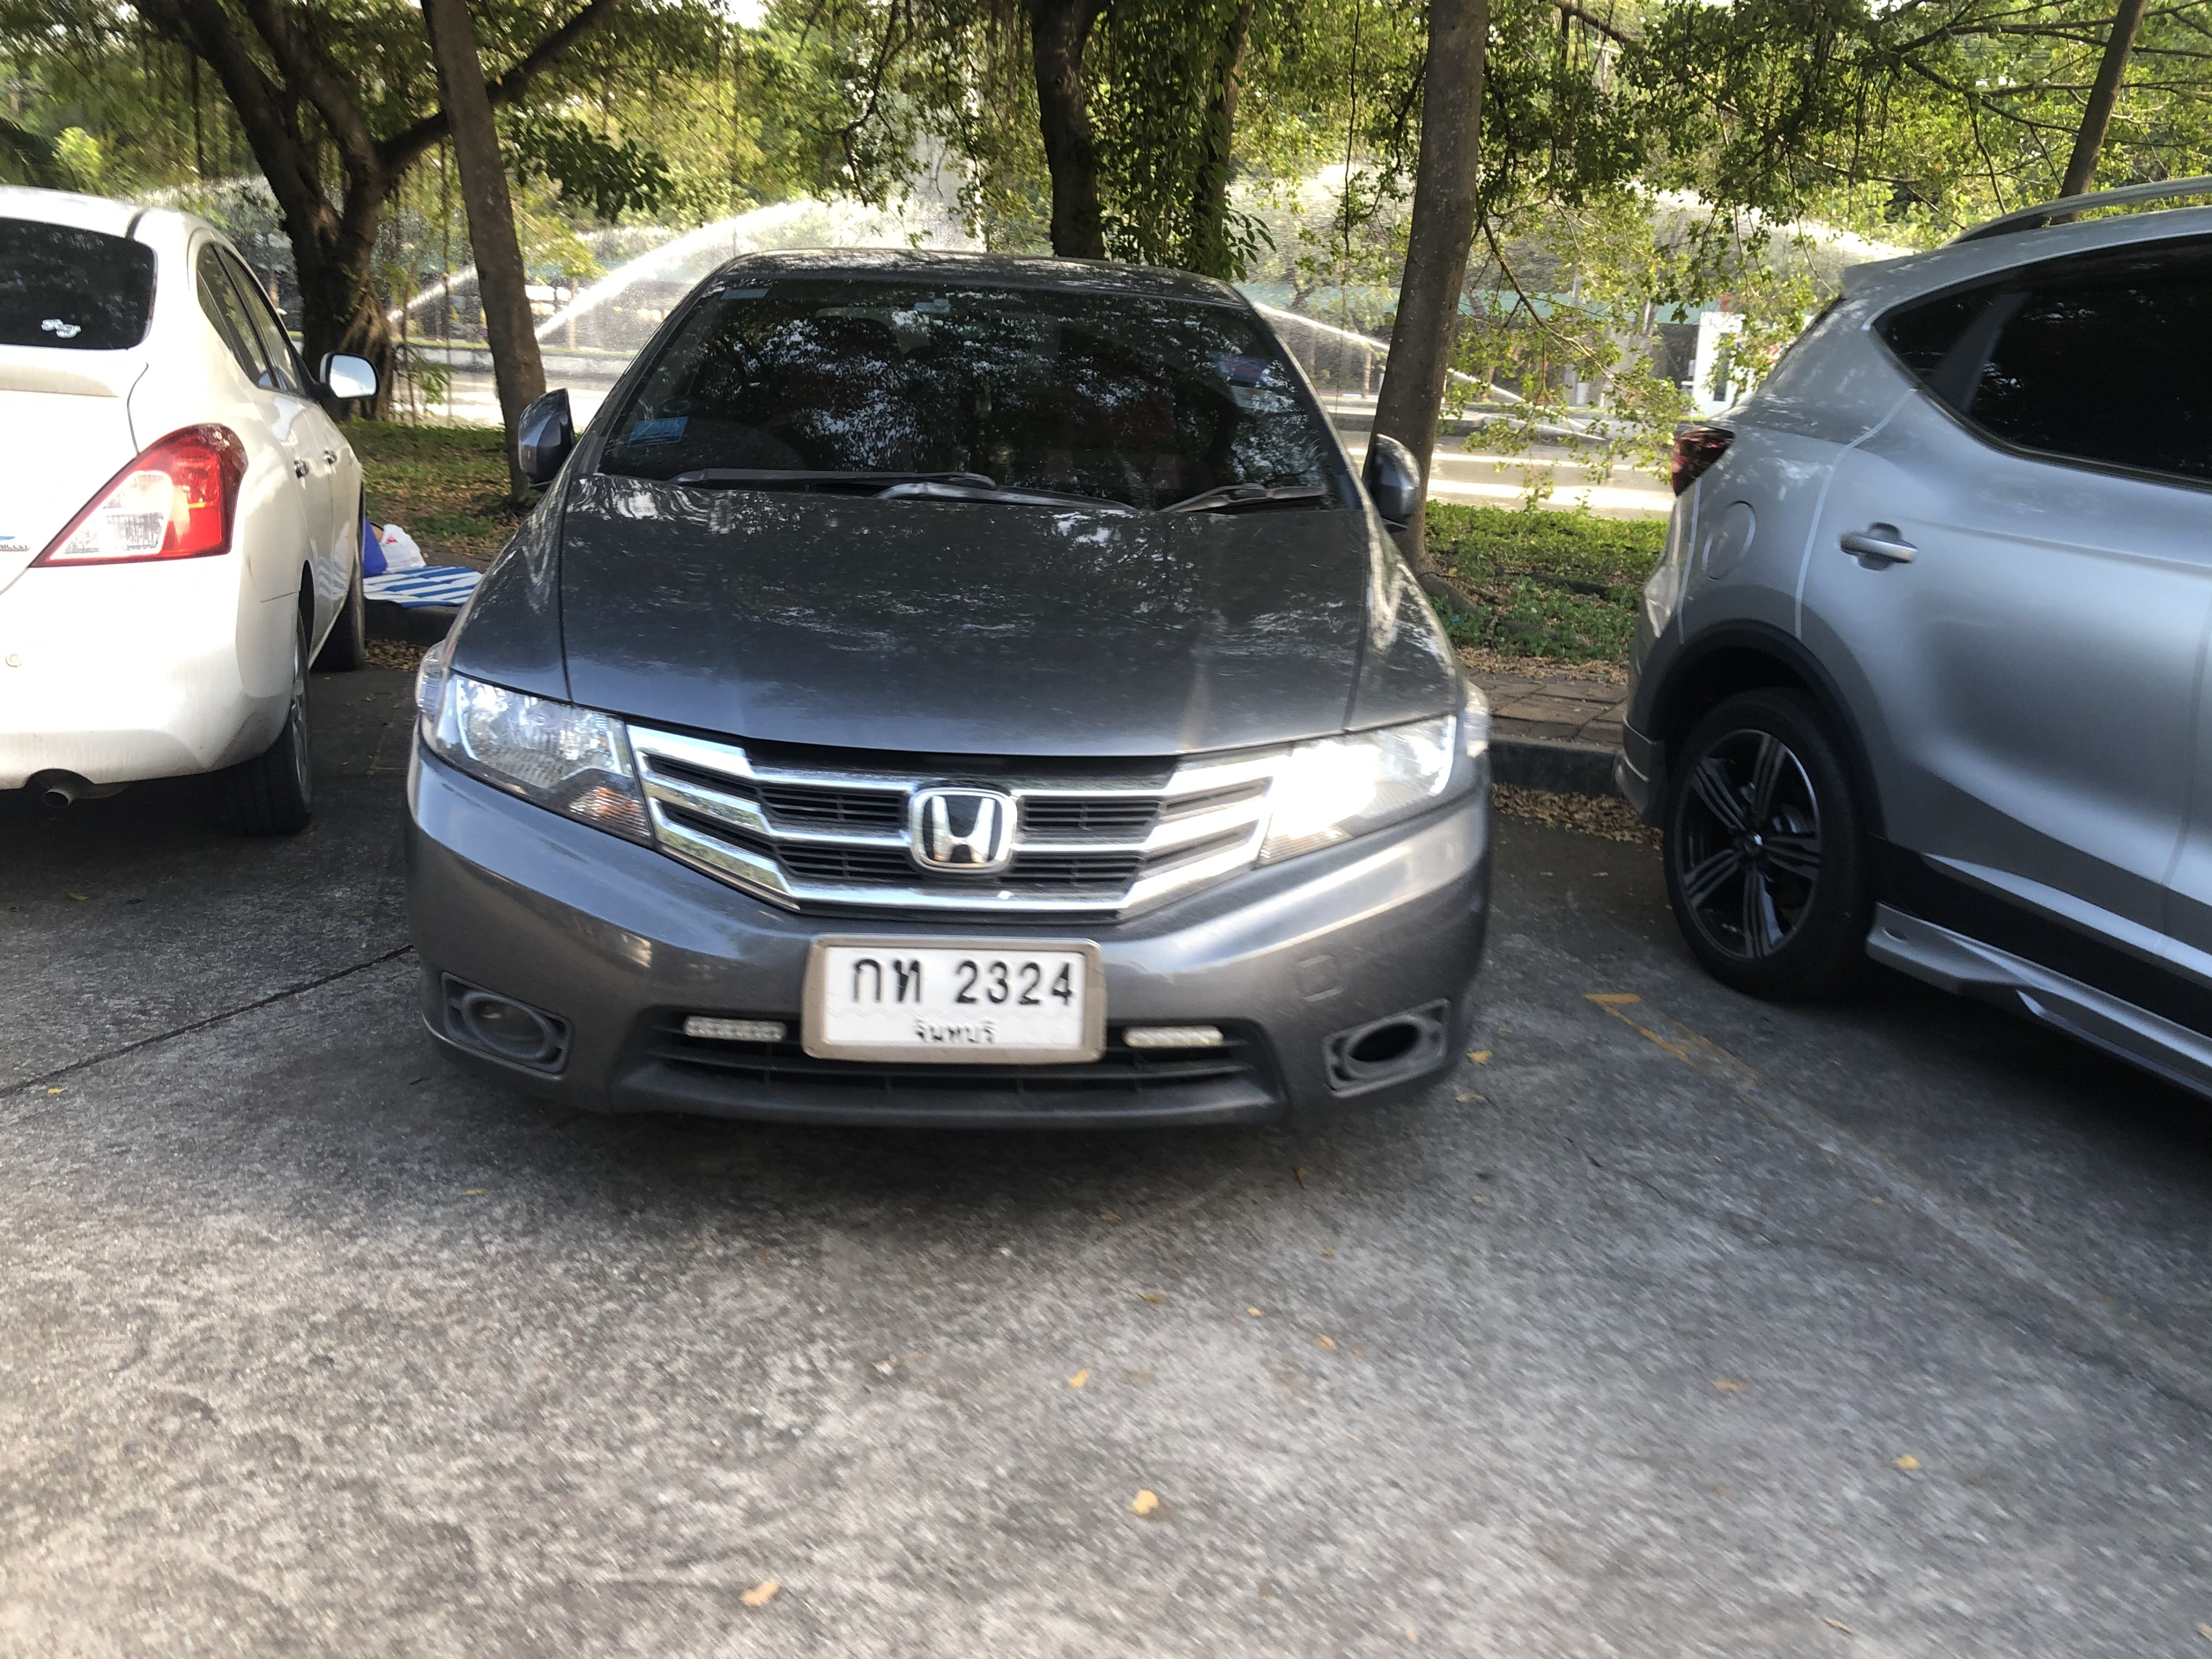in: (827, 946, 1080, 1049)
out: (798, 929, 1108, 1061)
